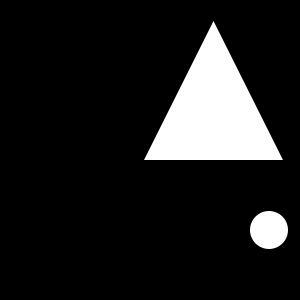rectangle: (250, 211, 288, 249)
triangle: (144, 21, 283, 160)
